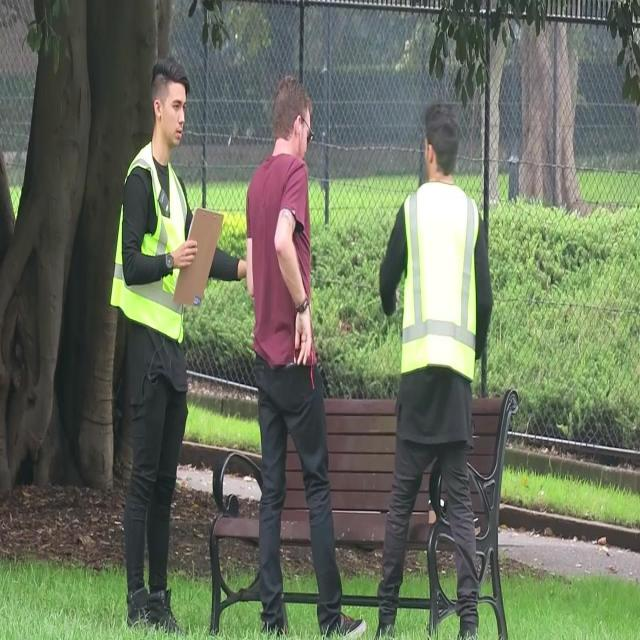Reflective-Jacket: (384, 176, 487, 401), (105, 138, 203, 354)
